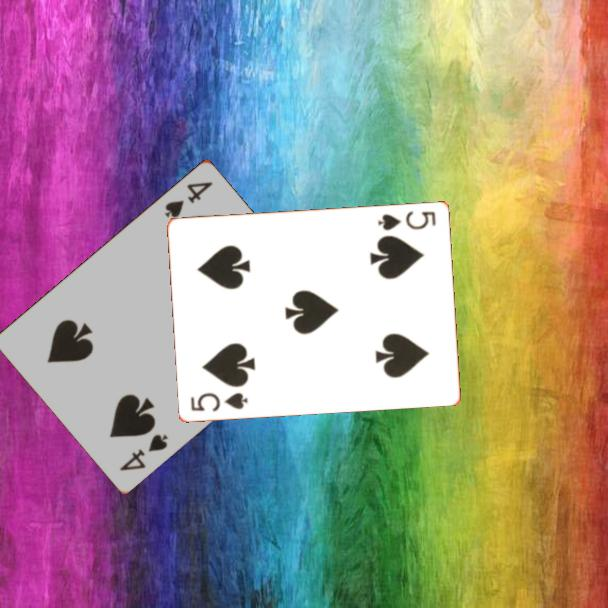s04: (161, 177, 216, 220), (116, 430, 171, 473)
s05: (375, 207, 439, 233), (187, 389, 251, 414)
